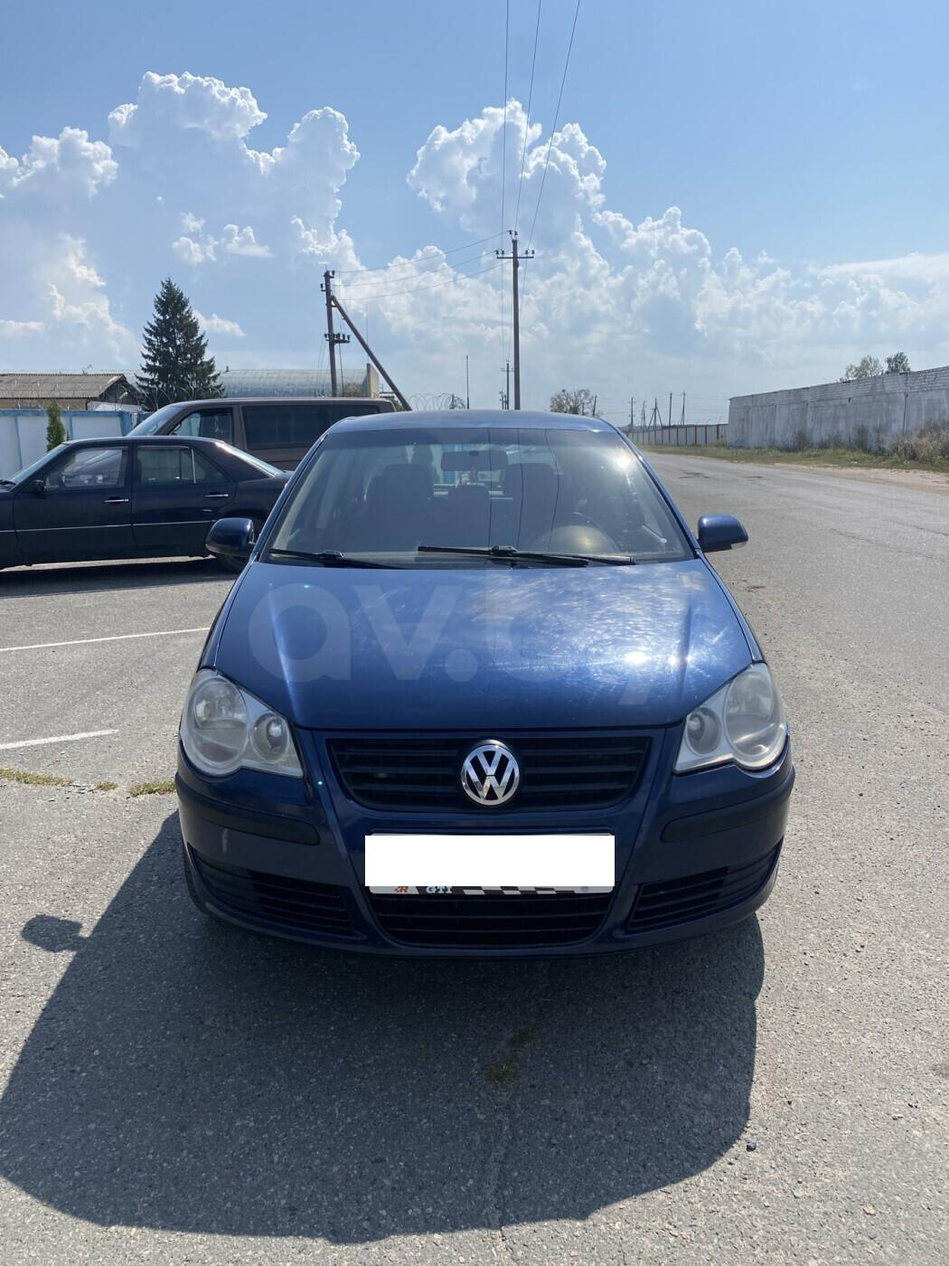Polo_2005-2009: (165, 407, 825, 998)
